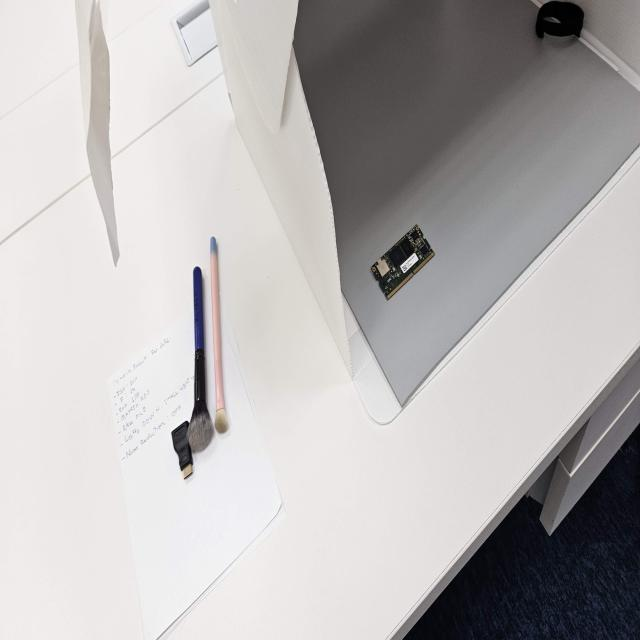som: (370, 220, 440, 300)
